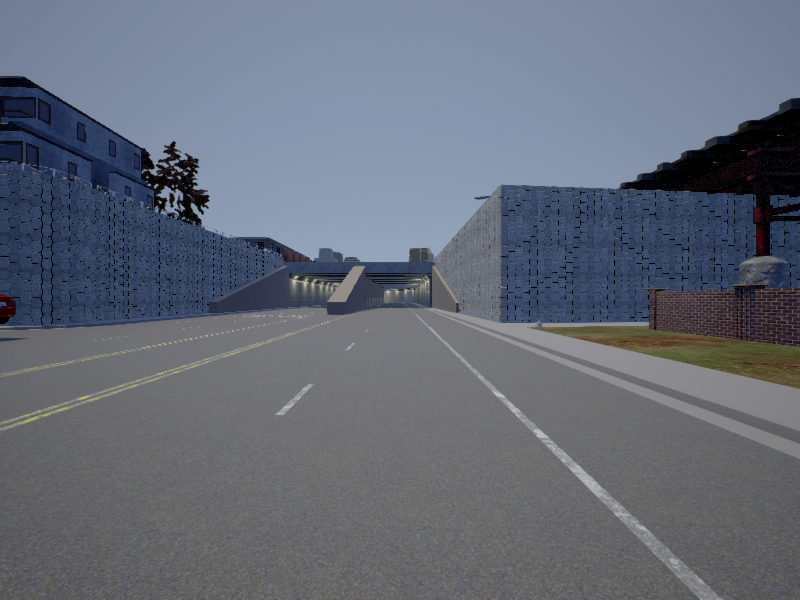Attacker: (1, 294, 14, 323)
